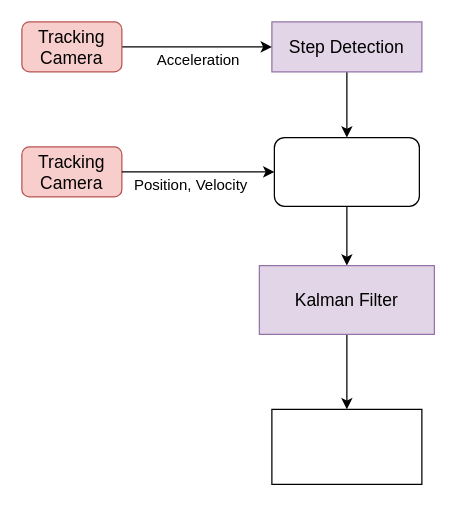
Some shapes in this 456 by 506 pixel diagram are drawn without their labels. Each missing label, with the box of its shape:
Estimated Position: (271, 408, 422, 484)
Position Velocity Acceleration: (273, 136, 419, 206)
